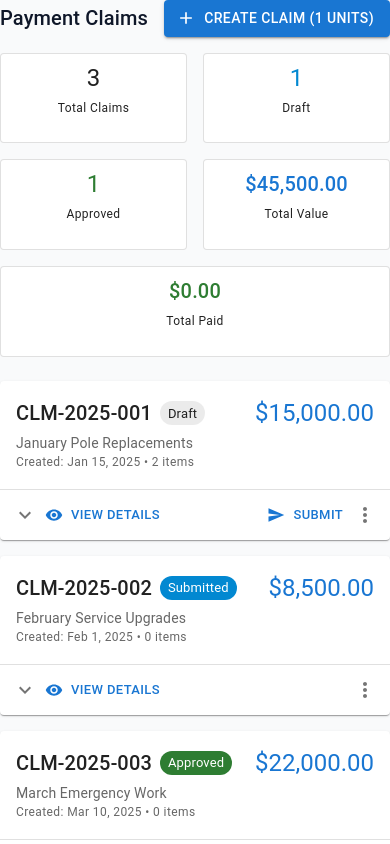
Test: ClaimsManagement Component › Create Claim Dialog › should close dialog on cancel
The image size is (390, 844).
Click the button "Create Claim (1 units)": (277, 18) [164,0,389,36]
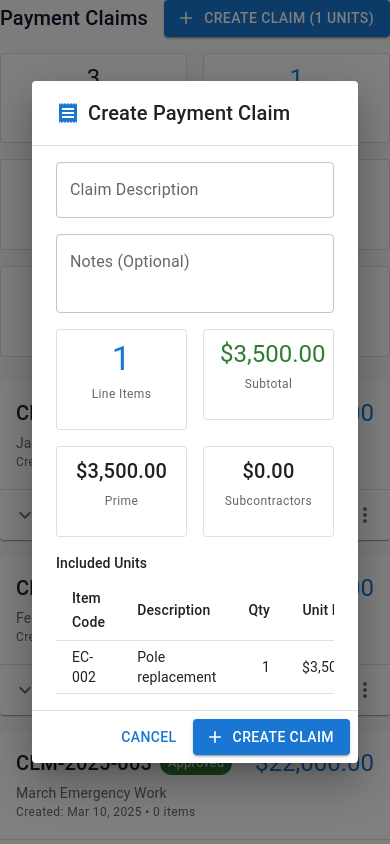
Now the heading "Create Payment Claim" is shown, box [56,101,290,125]
Click the button "Cancel": (149, 737) [113,719,185,755]
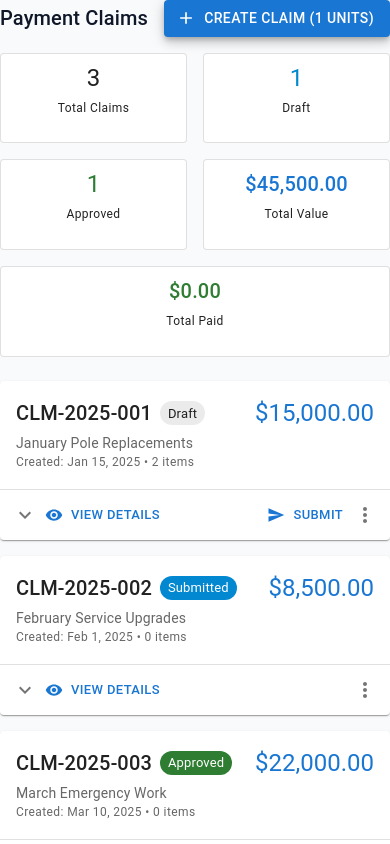
Now the heading "Create Payment Claim" is gone
